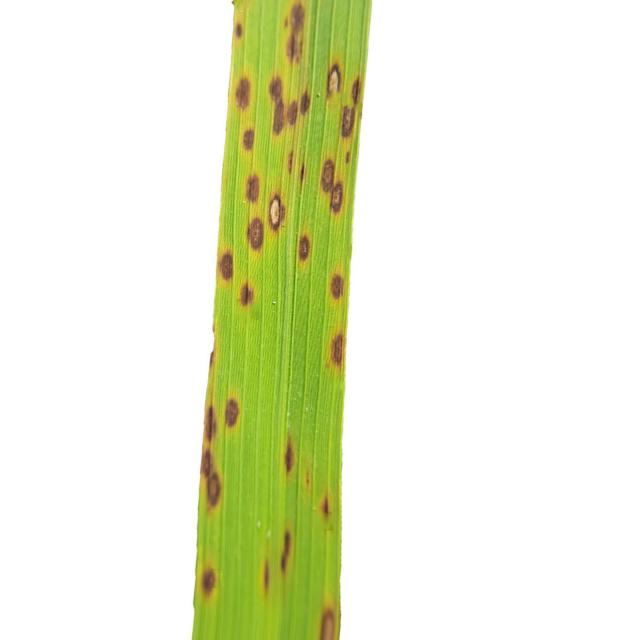Brown_Spot: (201, 450, 221, 508), (286, 2, 305, 61), (269, 78, 284, 134), (269, 195, 285, 230), (248, 218, 264, 250), (235, 79, 250, 109), (341, 106, 355, 138), (321, 160, 335, 192), (320, 610, 335, 639), (331, 334, 344, 366), (281, 531, 291, 571), (205, 406, 216, 441), (225, 399, 239, 426), (328, 65, 341, 93), (219, 252, 232, 280), (330, 182, 342, 212), (246, 175, 259, 202), (201, 569, 215, 594), (330, 275, 344, 299), (240, 284, 254, 306), (286, 101, 298, 125), (285, 441, 294, 472), (299, 236, 310, 260), (242, 130, 254, 150), (351, 78, 360, 104), (300, 92, 310, 115), (264, 561, 269, 591), (288, 151, 294, 172), (322, 496, 329, 514), (235, 24, 242, 38), (300, 164, 305, 181), (345, 151, 350, 164)
